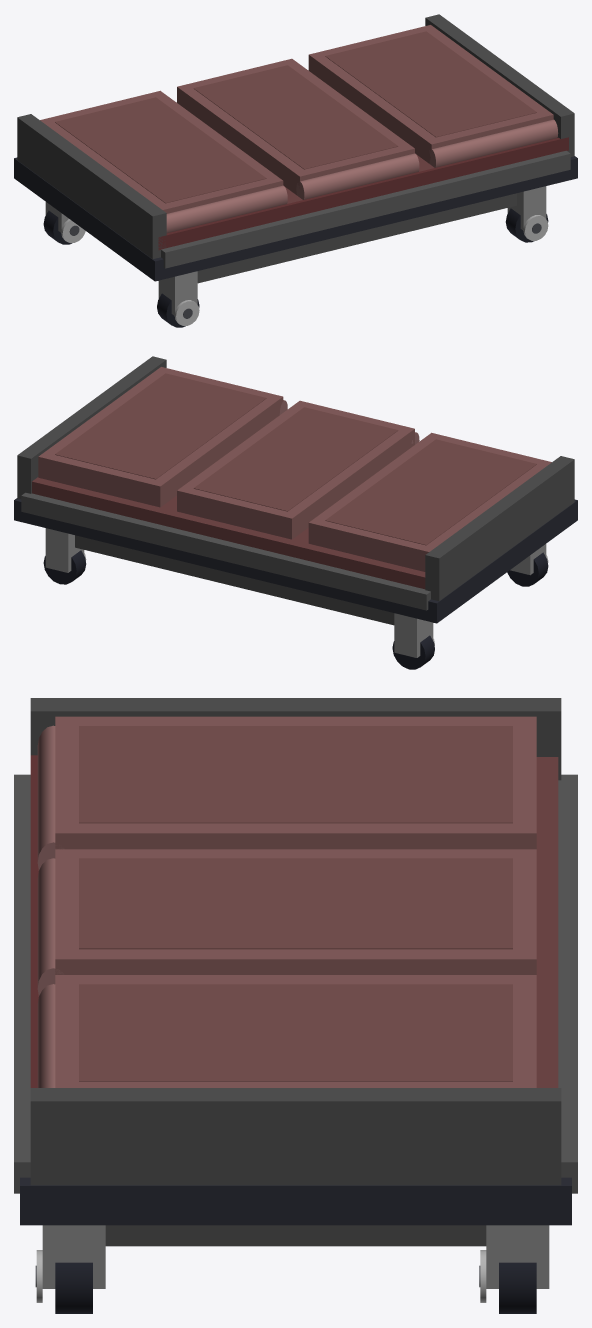
File: CMU3DRollerBedUnfolded.glb
The picture shows the model from 3 angles, top to bottom: view 1: azimuth 30°, elevation 25°; view 2: azimuth 150°, elevation 25°; view 3: azimuth 270°, elevation 25°; orthographic projection. The views are drawn at different scales.
Visible parts, largest first — view 1: recessed cushion face (×3), red upholstered segment (×3), end frame cap (×2), deck side rail, low rigid deck, padded edge (×3), front dark cushion band, nested carriage, gray caster fork (×2), caster wheel (×3), caster hub rim (×2); view 2: recessed cushion face (×3), red upholstered segment (×3), end frame cap (×2), deck side rail, low rigid deck, dark red padded base, nested carriage, gray caster fork (×2), caster wheel (×3); view 3: recessed cushion face (×3), end frame cap (×2), red upholstered segment (×3), low rigid deck, deck side rail (×2), nested carriage, dark red padded base, padded edge (×3), gray caster fork (×2), caster wheel (×2), front dark cushion band.
Part boxes in pixels (x1,y1,x2,y2): recessed cushion face (×3): [55, 31, 536, 203]; red upholstered segment (×3): [40, 25, 553, 213]; end frame cap (×2): [17, 14, 574, 259]; deck side rail: [161, 150, 570, 268]; low rigid deck: [14, 156, 577, 281]; padded edge (×3): [166, 119, 558, 233]; front dark cushion band: [158, 137, 568, 250]; nested carriage: [158, 193, 516, 283]; gray caster fork (×2): [158, 186, 546, 315]; caster wheel (×3): [43, 208, 548, 327]; caster hub rim (×2): [174, 215, 548, 325]; recessed cushion face (×3): [55, 373, 536, 545]; red upholstered segment (×3): [38, 367, 551, 571]; end frame cap (×2): [17, 356, 574, 601]; deck side rail: [21, 492, 430, 610]; low rigid deck: [14, 498, 577, 623]; dark red padded base: [32, 477, 425, 589]; nested carriage: [75, 535, 433, 625]; gray caster fork (×2): [45, 528, 433, 657]; caster wheel (×3): [43, 550, 548, 669]; recessed cushion face (×3): [79, 726, 512, 1081]; end frame cap (×2): [30, 698, 561, 1185]; red upholstered segment (×3): [55, 716, 536, 1087]; low rigid deck: [20, 1177, 571, 1225]; deck side rail (×2): [14, 774, 577, 1193]; nested carriage: [105, 1225, 486, 1246]; dark red padded base: [38, 757, 558, 1087]; padded edge (×3): [37, 725, 64, 1087]; gray caster fork (×2): [42, 1225, 549, 1288]; caster wheel (×2): [55, 1262, 536, 1313]; front dark cushion band: [30, 755, 38, 1087].
Size of the model in its own units: 0.97 by 0.273 by 0.572.
